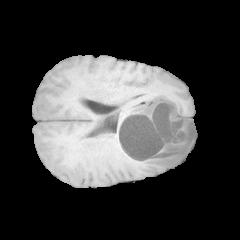glioma: (98, 97, 197, 167)
